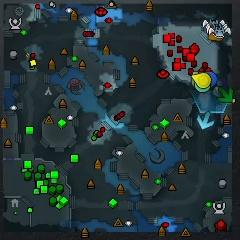p1: (207, 70, 218, 87)
p2: (194, 84, 211, 92)
p4: (192, 73, 210, 87)
x2: (191, 71, 200, 85)
x3: (197, 112, 214, 130)
x4: (218, 87, 234, 104)
x5: (207, 33, 224, 42)
